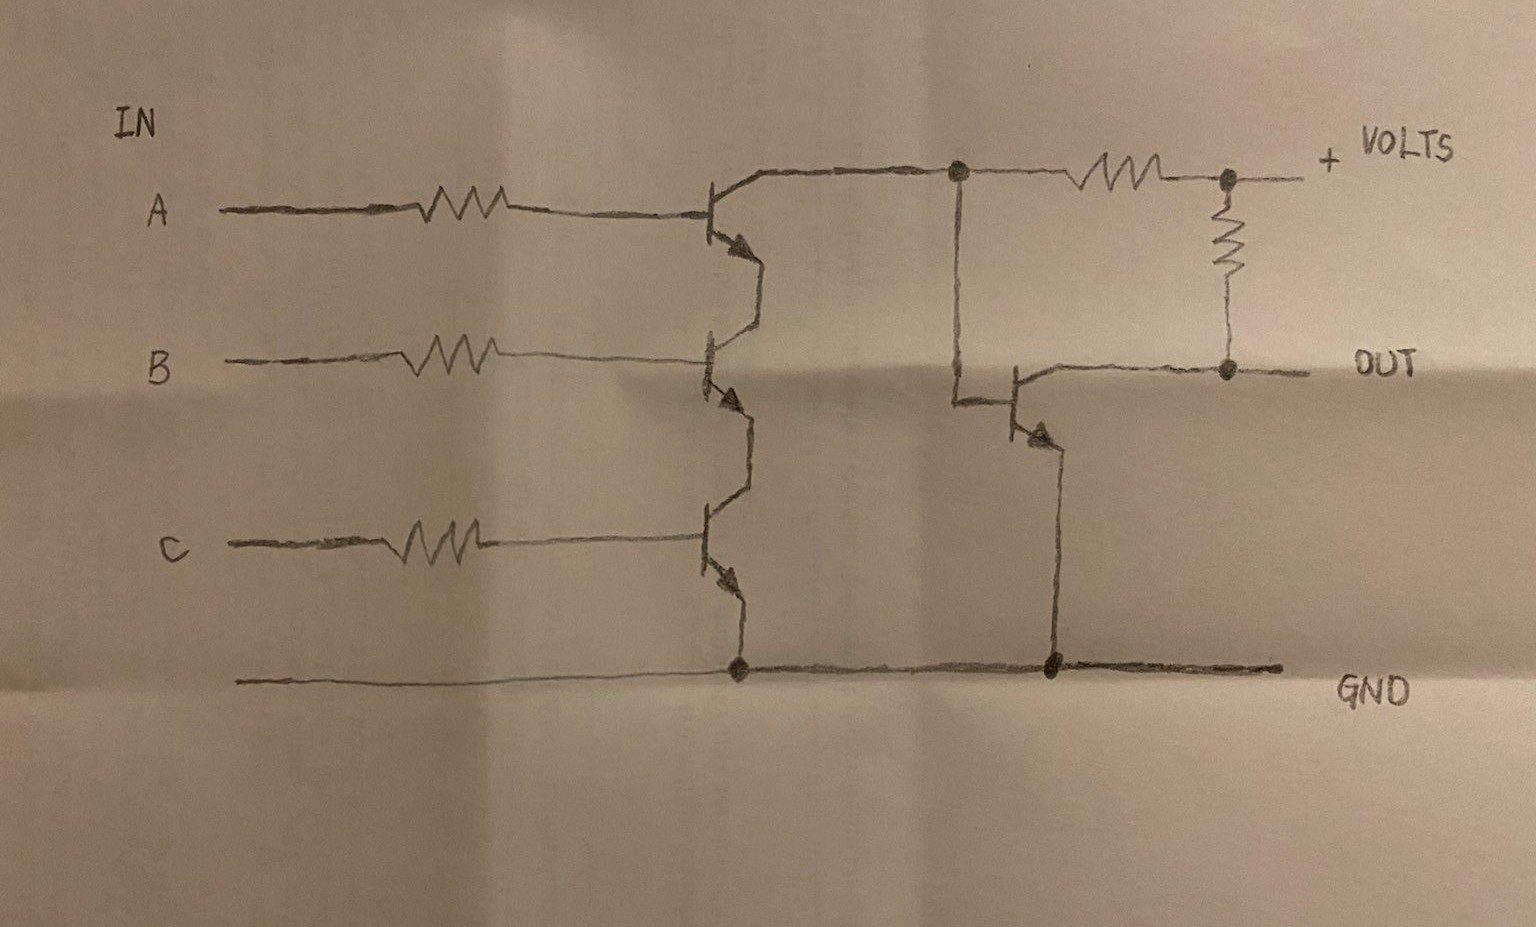junction: (931, 150, 986, 195), (716, 641, 765, 690), (1032, 643, 1071, 685), (1208, 160, 1252, 195), (1211, 346, 1246, 387)
resistor: (375, 508, 498, 572), (392, 329, 508, 383), (1052, 150, 1176, 200), (407, 182, 523, 227), (1208, 200, 1256, 289)
terminal: (1268, 658, 1294, 682), (1294, 362, 1319, 385), (210, 200, 231, 222), (1290, 167, 1312, 189), (222, 533, 239, 555), (229, 672, 247, 691), (217, 352, 234, 372)
text: (1357, 115, 1459, 168), (1330, 662, 1424, 717), (1349, 338, 1422, 389), (105, 93, 168, 146), (140, 343, 184, 392), (153, 525, 196, 574), (139, 185, 176, 238), (1313, 140, 1344, 179)
transistor: (688, 476, 784, 613), (688, 312, 784, 436), (689, 156, 786, 275), (994, 355, 1093, 462)
